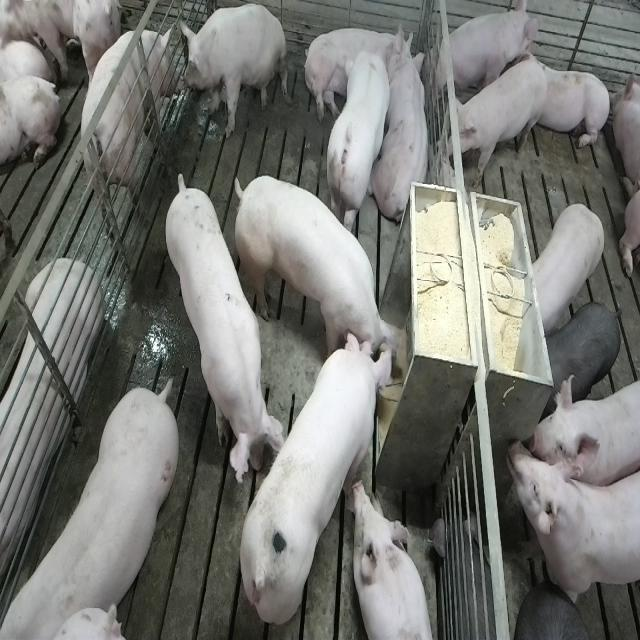Feeding: (235, 332, 397, 626), (240, 170, 414, 384)
Lateral_lying: (304, 16, 415, 121)
Sitting: (179, 4, 286, 141), (438, 2, 540, 98)
Standing: (5, 375, 184, 635), (162, 169, 278, 488), (504, 435, 638, 610), (82, 28, 180, 233), (442, 60, 543, 191), (534, 370, 640, 487), (325, 51, 390, 239), (528, 200, 606, 332), (543, 302, 623, 407), (517, 583, 603, 638)
Sternal_lying: (0, 260, 100, 590), (352, 481, 439, 640), (512, 48, 613, 156)
